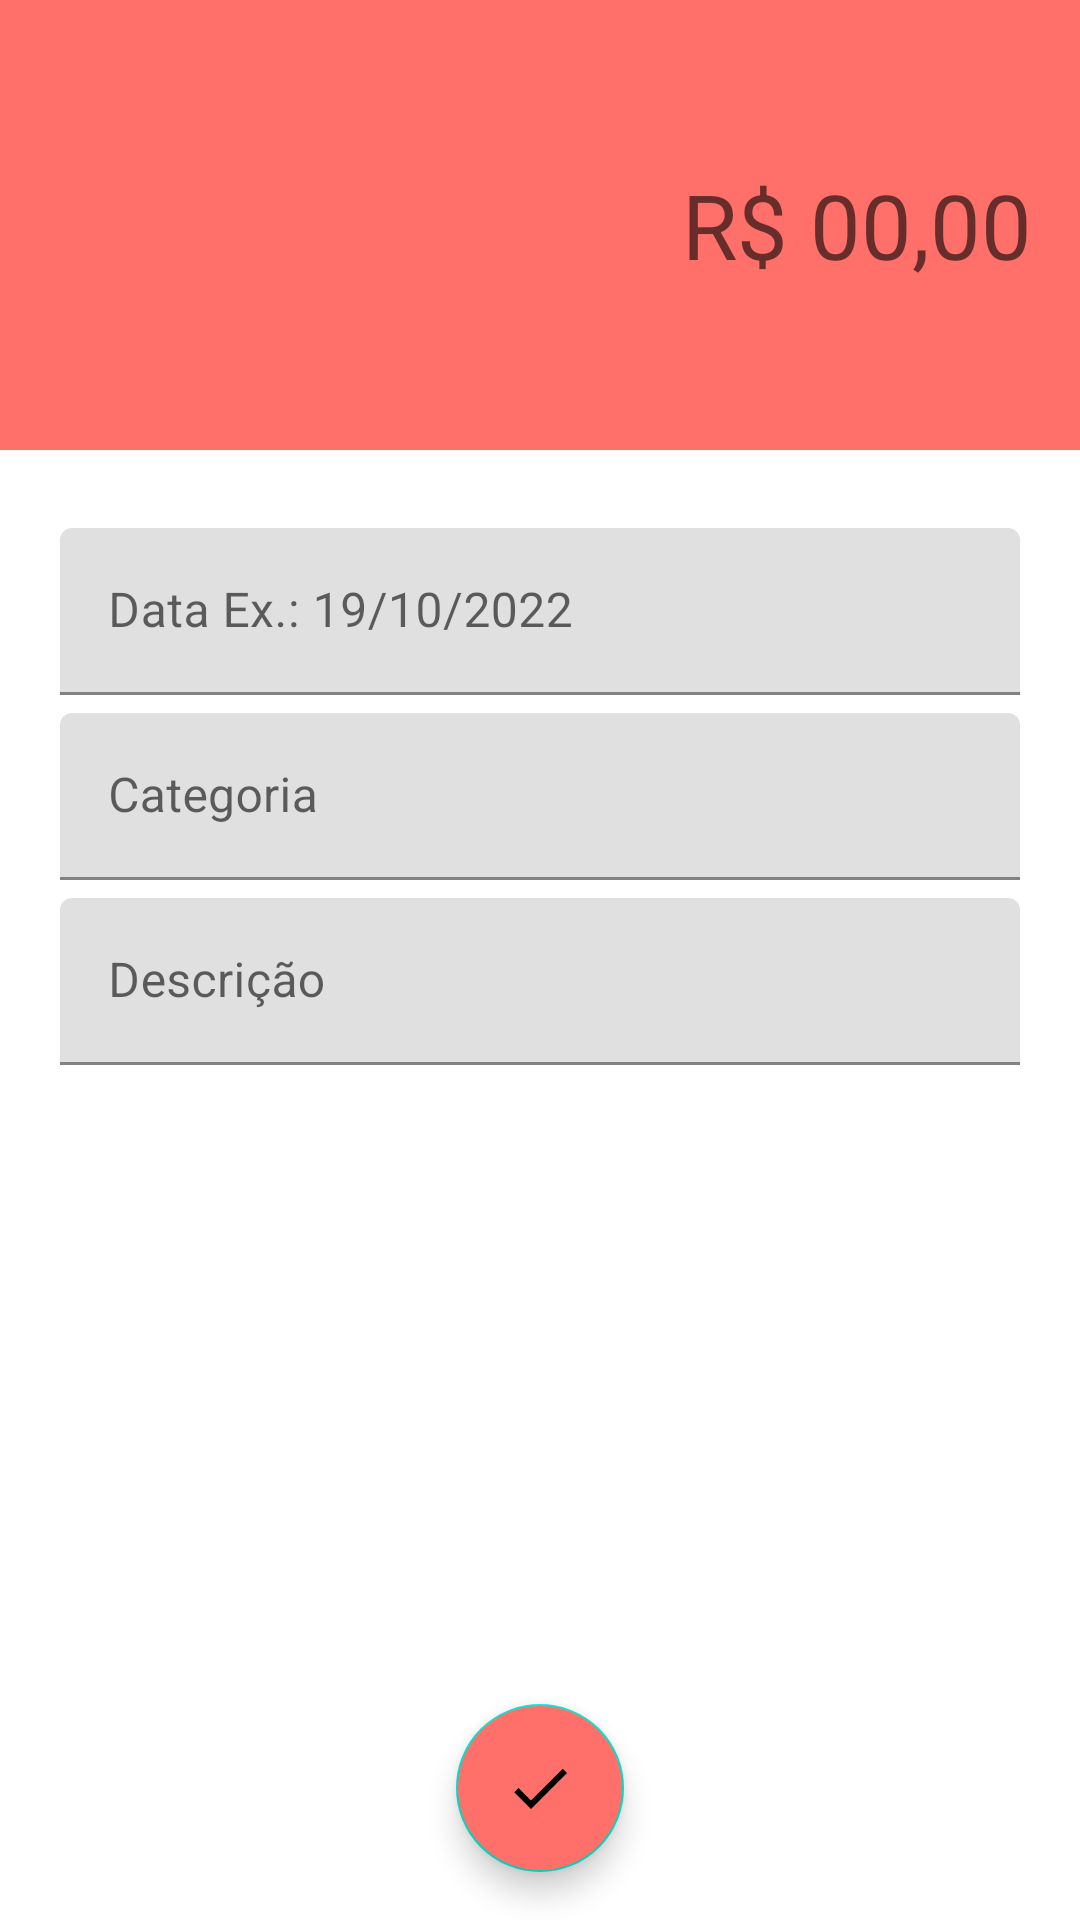

Where to tap for icons on this 1080w x 1920h app screen, as (x,y):
check: (540,1788)
